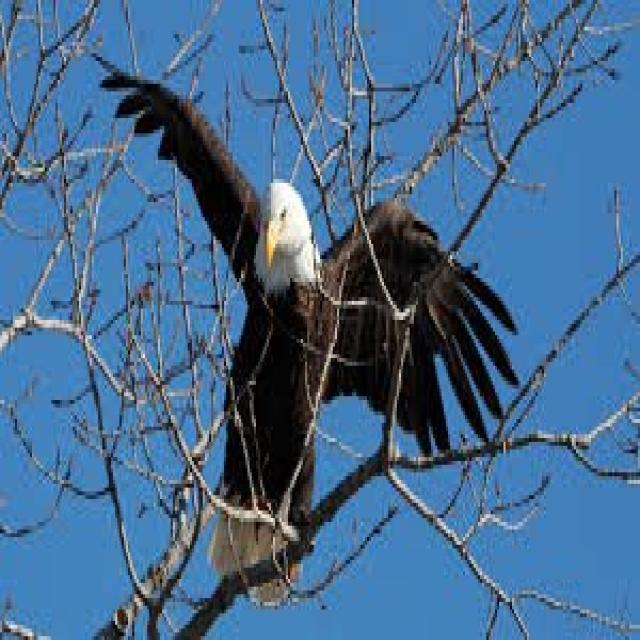Eagle: (96, 59, 510, 591)
